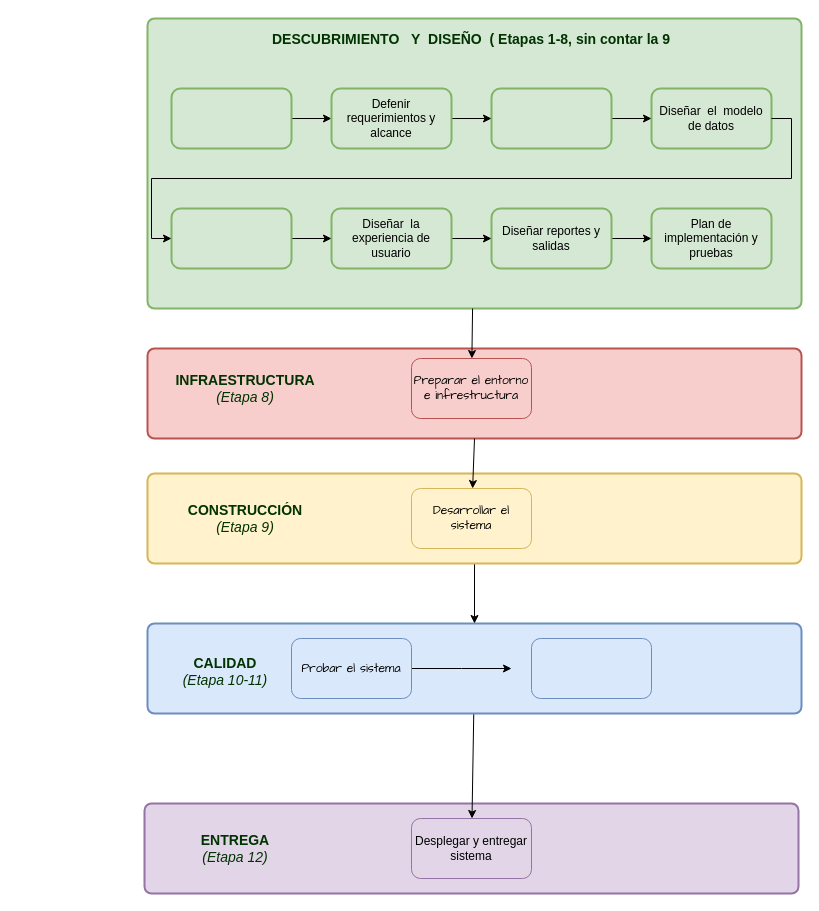
Some shapes in this 819 by 911 pixel diagram are drawn without their labels. The shapes that lost their labels are listed below. From the top down, each one's box as (x1, y1, x2, y2) in pixels, then its label:
(170, 87, 292, 149): Entender el caso de negocio
(490, 87, 612, 149): Diseñar los procesos principales
(170, 207, 292, 269): Diseñar la arquitectura lógica
(530, 638, 652, 698): Asegurar calidad y corregir
